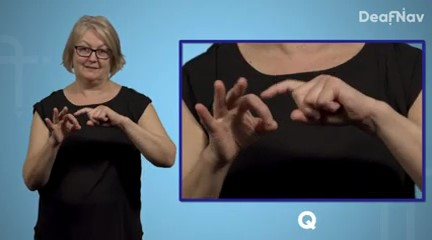Q: (39, 99, 137, 146)
